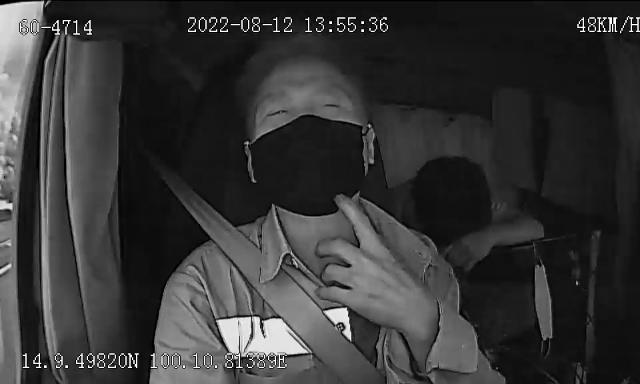Seatbelt: (168, 182, 388, 384)
